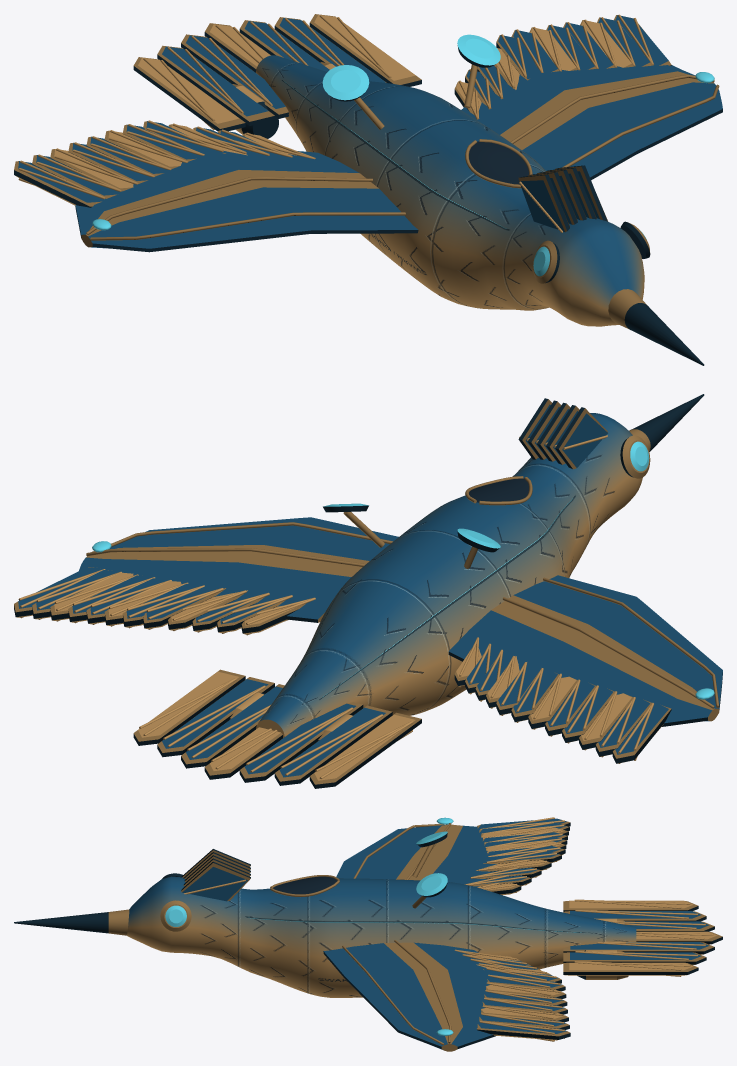
The model's file is kingfisher.glb.
The picture shows the model from 3 angles, top to bottom: view 1: azimuth 30°, elevation 25°; view 2: azimuth 150°, elevation 25°; view 3: azimuth 270°, elevation 25°; orthographic projection. The views are drawn at different scales.
Parts seen in each view (by area): view 1: kingfisher_hull; view 2: kingfisher_hull; view 3: kingfisher_hull.
Part boxes in pixels (<box>): kingfisher_hull: <box>14,14,722,365</box>; kingfisher_hull: <box>14,394,722,788</box>; kingfisher_hull: <box>14,817,722,1051</box>.
Size of the model in its own units: 12.5 by 3.63 by 17.
Materials: 1 (1 with a texture image).
